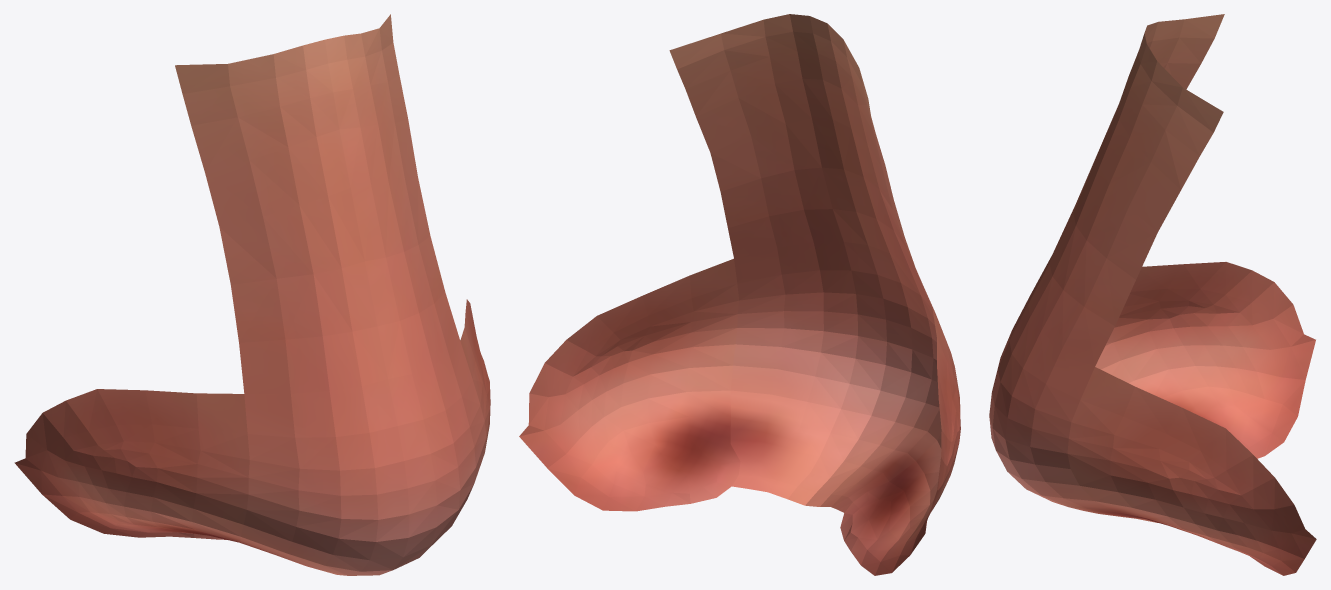
Rendered from euro-nose-sellion-wide.obj.
3 views of the same model, side by side, from view 1: azimuth 30°, elevation 25°; view 2: azimuth 150°, elevation 25°; view 3: azimuth 270°, elevation 25° (orthographic). The views are drawn at different scales.
Parts seen in each view (by area): view 1: euro-nose-sellion-wid.001; view 2: euro-nose-sellion-wid.001; view 3: euro-nose-sellion-wid.001.
Part boxes in pixels (box(x1,y1,x2,y2)): euro-nose-sellion-wid.001: box(14, 14, 490, 575); euro-nose-sellion-wid.001: box(519, 14, 960, 575); euro-nose-sellion-wid.001: box(989, 14, 1316, 575).
Bounding box in the file's own units: 0.3512 × 0.4008 × 0.245.
1 material, 1 textured.
